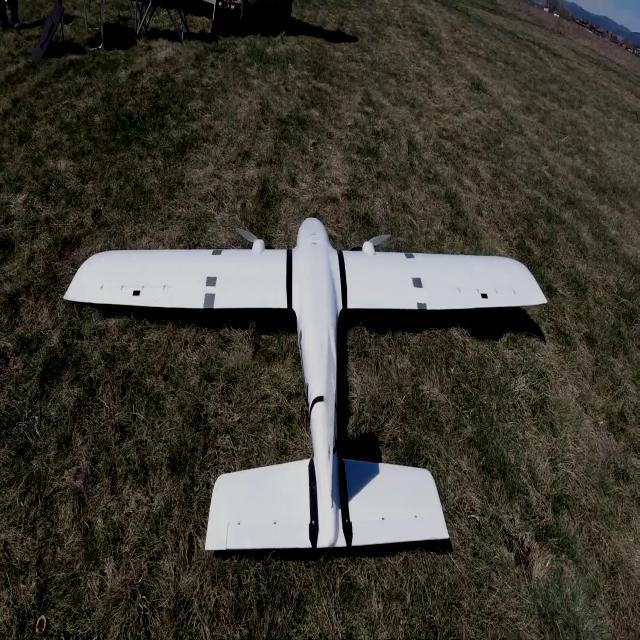iha: (61, 207, 554, 572)
